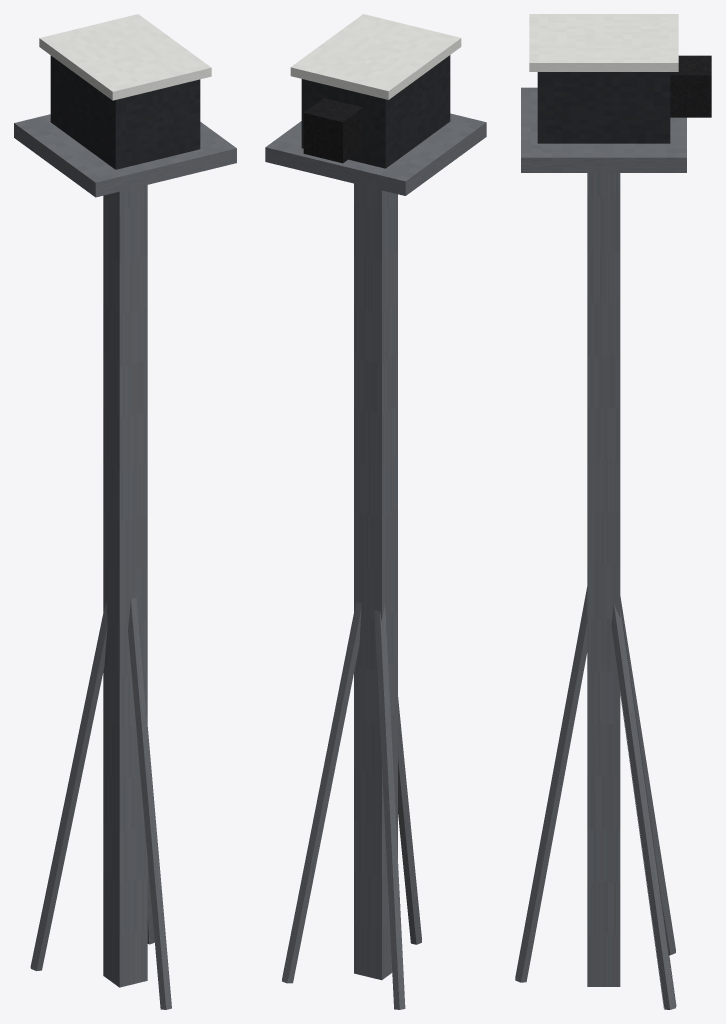
Rendered from timing_tower.obj.
3 renders of one model, left to right at view 1: azimuth 30°, elevation 25°; view 2: azimuth 150°, elevation 25°; view 3: azimuth 270°, elevation 25°, orthographic. The views are drawn at different scales.
Visible parts, largest first — view 1: timing_tower; view 2: timing_tower; view 3: timing_tower.
Part boxes in pixels (box(x1,y1,x2,y2)): timing_tower: box(14, 14, 236, 1009); timing_tower: box(265, 14, 486, 1009); timing_tower: box(515, 14, 711, 1009).
Size of the model in its own units: 0.625 by 3.92 by 0.7401.
